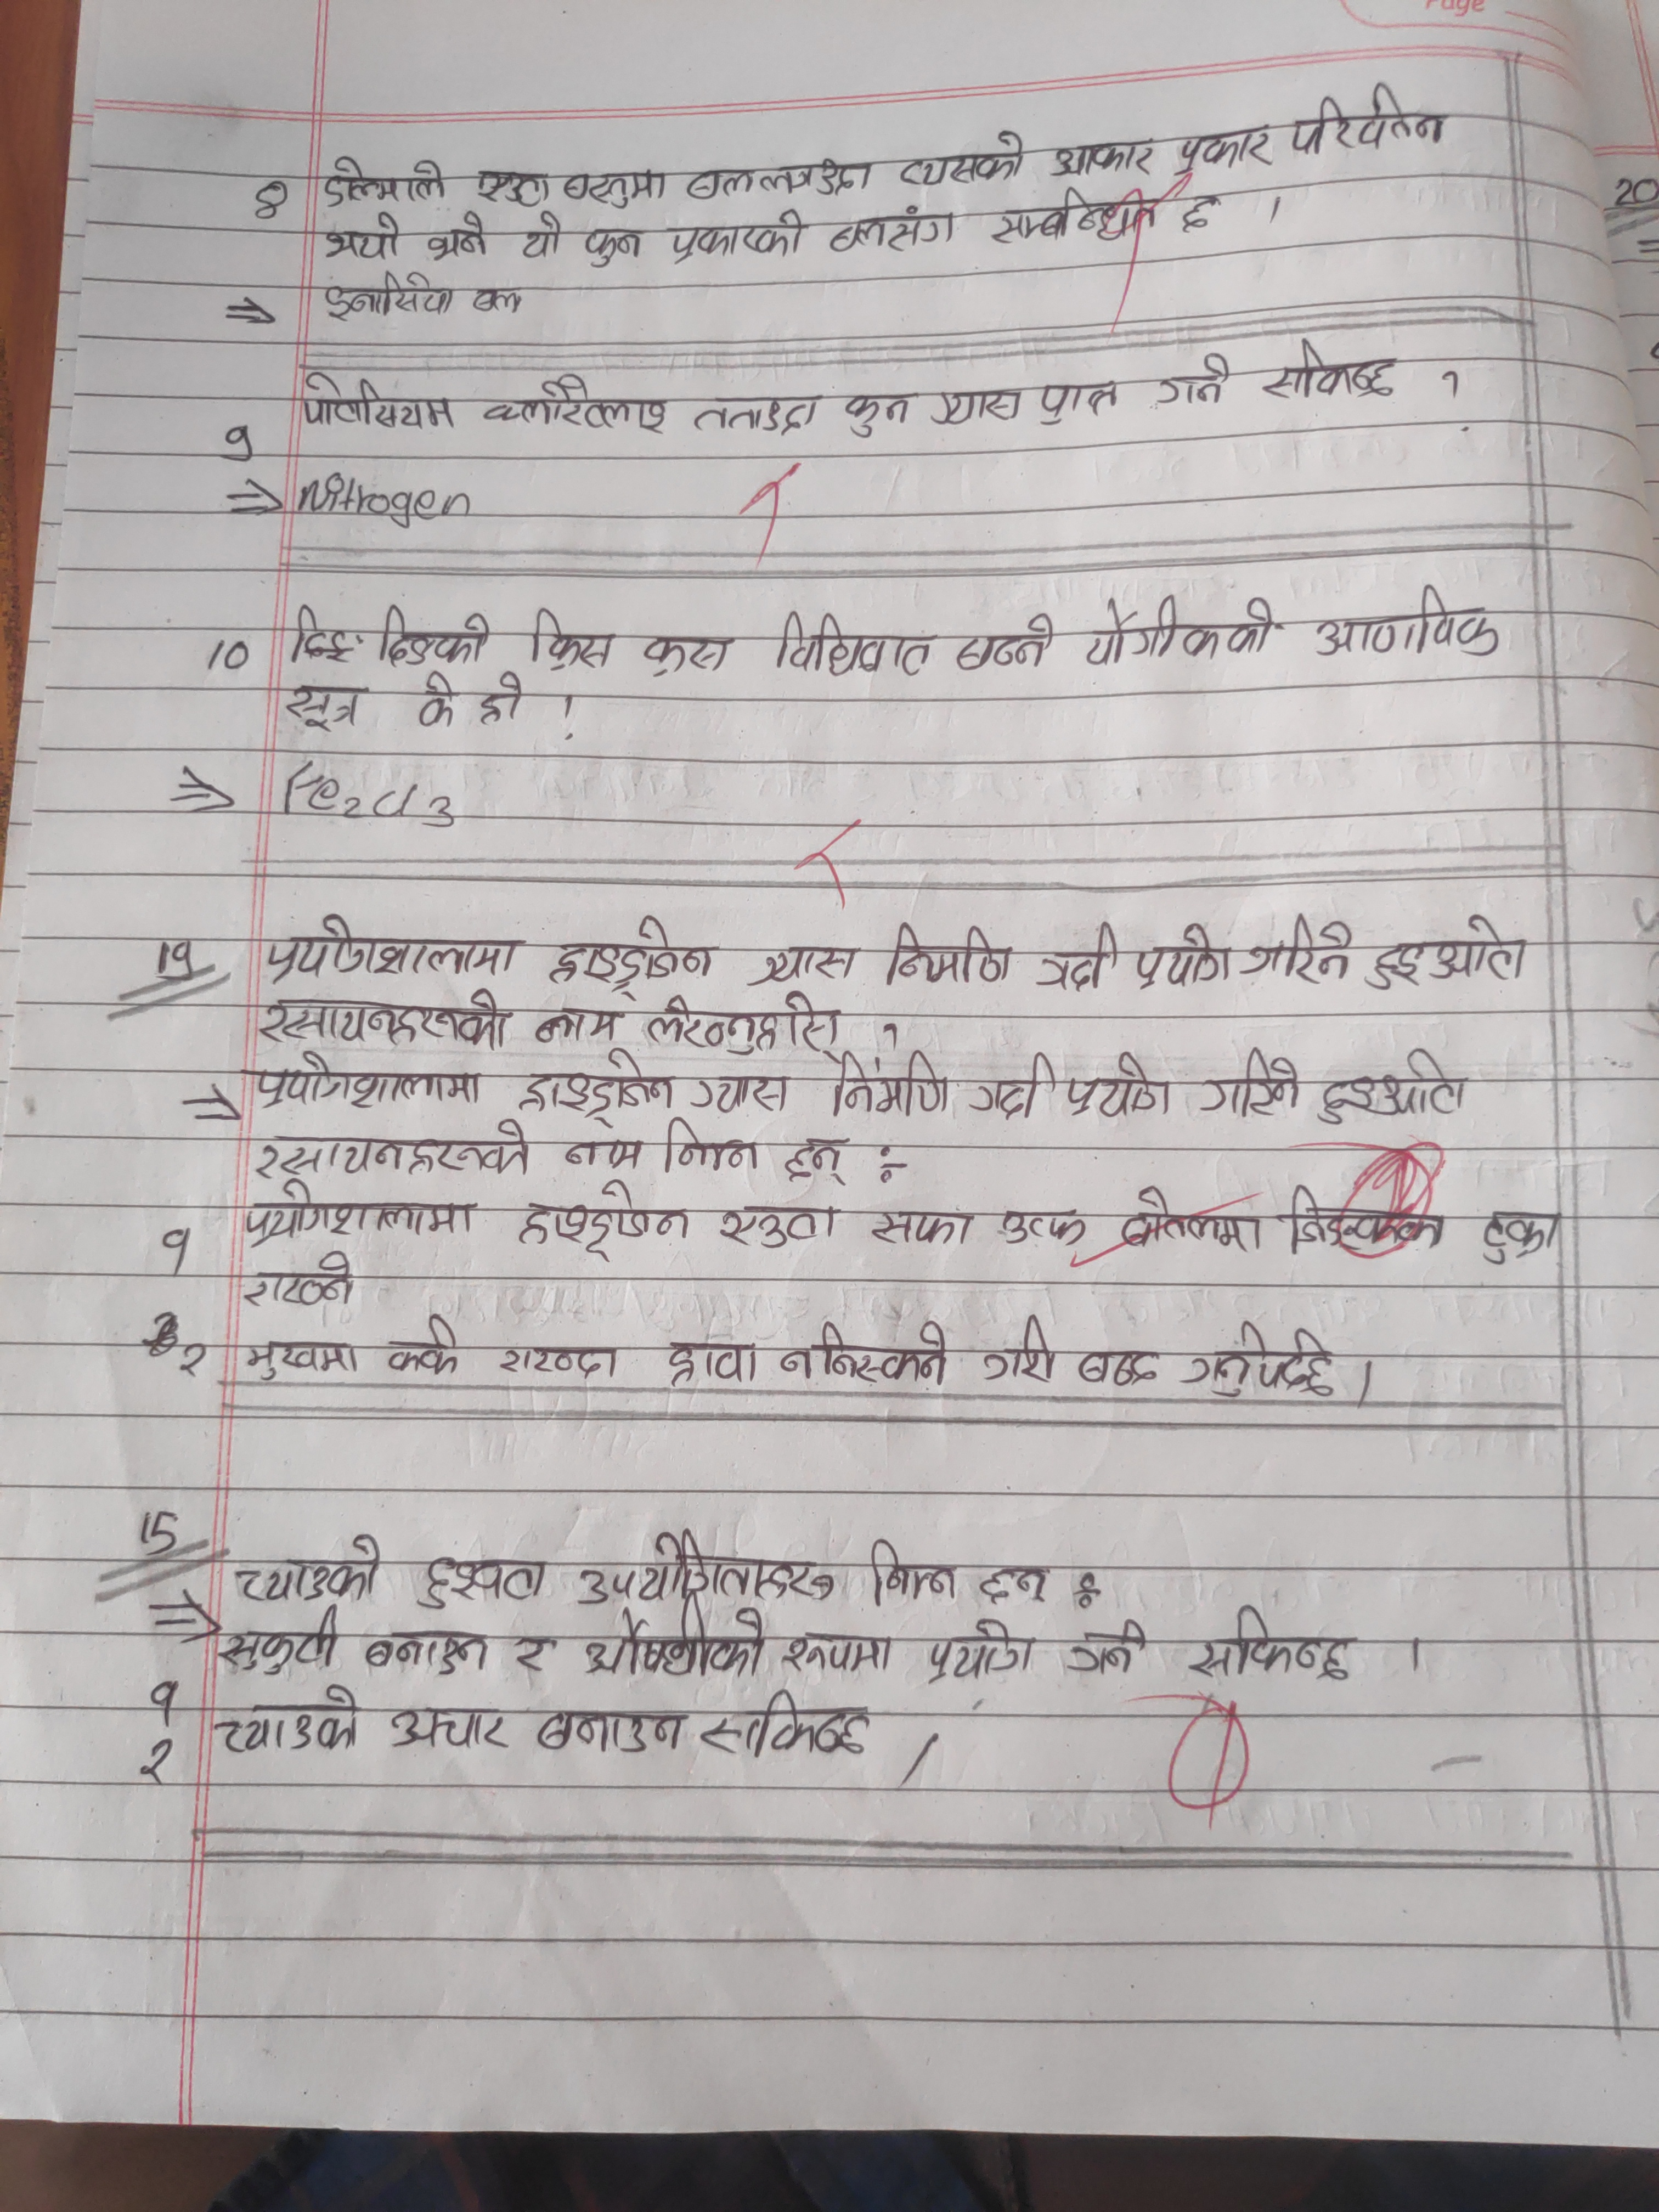text: (568, 1521, 849, 1611), (260, 909, 526, 984), (242, 1122, 537, 1186), (253, 984, 514, 1055), (1086, 578, 1283, 672), (239, 1177, 479, 1251), (254, 1047, 491, 1115), (549, 906, 725, 995), (577, 1608, 774, 1686), (1187, 1602, 1359, 1689), (1307, 580, 1504, 655), (699, 1688, 873, 1771), (1363, 909, 1534, 993), (774, 1318, 962, 1393), (769, 603, 943, 683), (1183, 1320, 1344, 1407), (645, 993, 845, 1061), (474, 373, 666, 439), (516, 1181, 692, 1252), (1314, 1050, 1476, 1127), (225, 1533, 383, 1609), (988, 181, 1162, 251), (295, 368, 464, 439), (1291, 80, 1450, 153), (1112, 1184, 1262, 1261), (218, 1688, 364, 1761), (1263, 329, 1412, 401), (884, 127, 1033, 195), (875, 920, 1016, 991), (361, 592, 498, 665), (662, 195, 805, 265), (1244, 907, 1358, 993), (408, 1548, 549, 1616), (519, 1061, 676, 1122), (528, 1700, 683, 1759), (856, 1531, 964, 1615), (1056, 1049, 1176, 1123), (830, 1054, 955, 1125), (920, 1613, 1042, 1686), (221, 1604, 340, 1676), (389, 1689, 512, 1756), (709, 1195, 843, 1256), (317, 150, 453, 209), (317, 265, 457, 322), (681, 160, 878, 200), (235, 1320, 357, 1385), (357, 1627, 497, 1683), (244, 1247, 361, 1313), (683, 385, 826, 439), (1127, 918, 1234, 989), (739, 932, 864, 991), (964, 1054, 1063, 1125), (775, 1629, 901, 1684), (491, 1339, 629, 1390), (1204, 1050, 1300, 1122), (1042, 129, 1162, 185), (824, 202, 965, 249), (657, 1122, 769, 1181), (690, 1064, 800, 1123), (1033, 920, 1121, 993), (380, 1310, 469, 1381), (951, 611, 1056, 671), (979, 1308, 1056, 1388), (657, 1329, 760, 1388), (924, 374, 1028, 432), (279, 665, 366, 733), (523, 995, 626, 1050), (1061, 1620, 1152, 1683), (1068, 1339, 1169, 1395), (1480, 1200, 1560, 1270), (523, 606, 617, 665), (1171, 122, 1274, 176), (971, 1550, 1061, 1611), (281, 599, 366, 664), (640, 625, 737, 681), (1033, 369, 1124, 428), (870, 1202, 979, 1251), (561, 164, 676, 209), (995, 1198, 1089, 1251), (1152, 352, 1236, 409), (321, 209, 404, 265), (772, 1134, 856, 1184), (420, 211, 491, 268), (552, 1130, 650, 1172), (840, 385, 915, 439), (403, 671, 469, 732), (464, 162, 552, 202), (579, 223, 648, 273), (502, 1627, 563, 1679), (471, 676, 537, 723), (462, 277, 528, 322), (1175, 186, 1227, 235), (518, 207, 561, 263)
